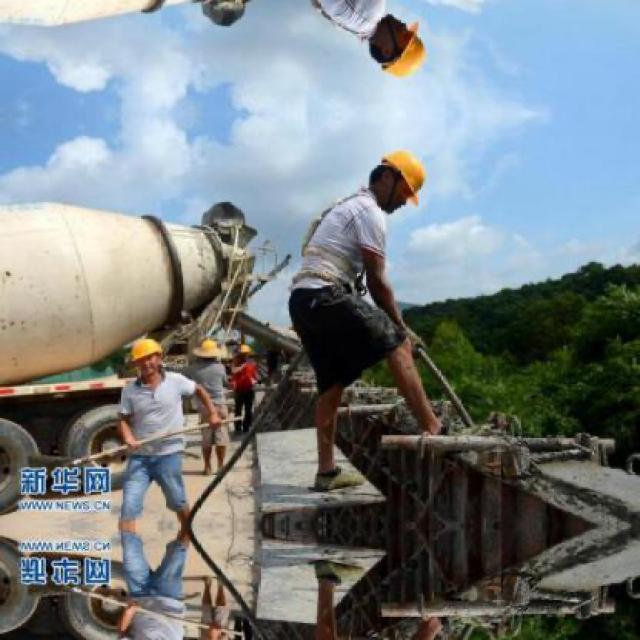helmet: (364, 142, 428, 210), (364, 18, 428, 86), (124, 338, 164, 382), (195, 338, 223, 362), (237, 341, 252, 361)
